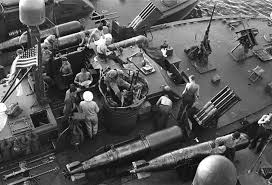boat: (1, 1, 272, 185)
